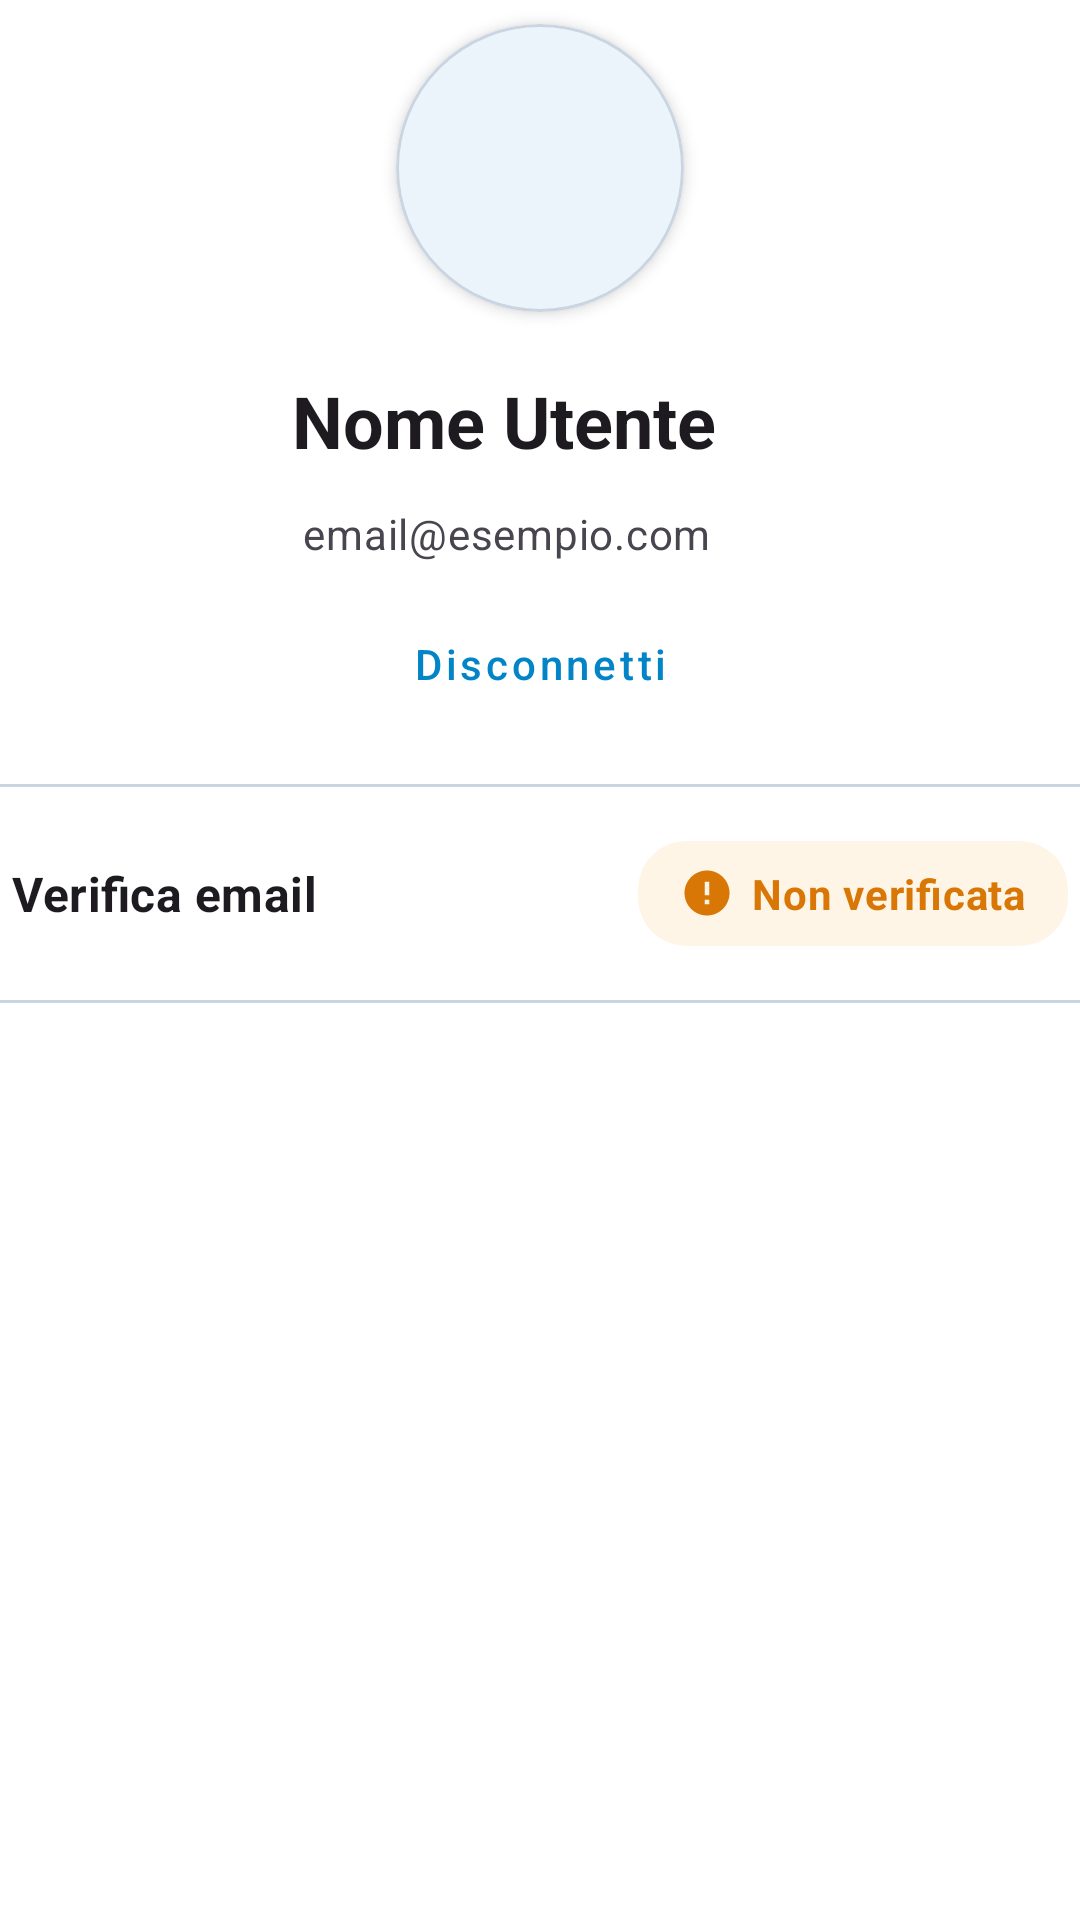

Where to tap for icons on this 1080×1920 app screen, as (x,y):
warning amber: (707,893)
